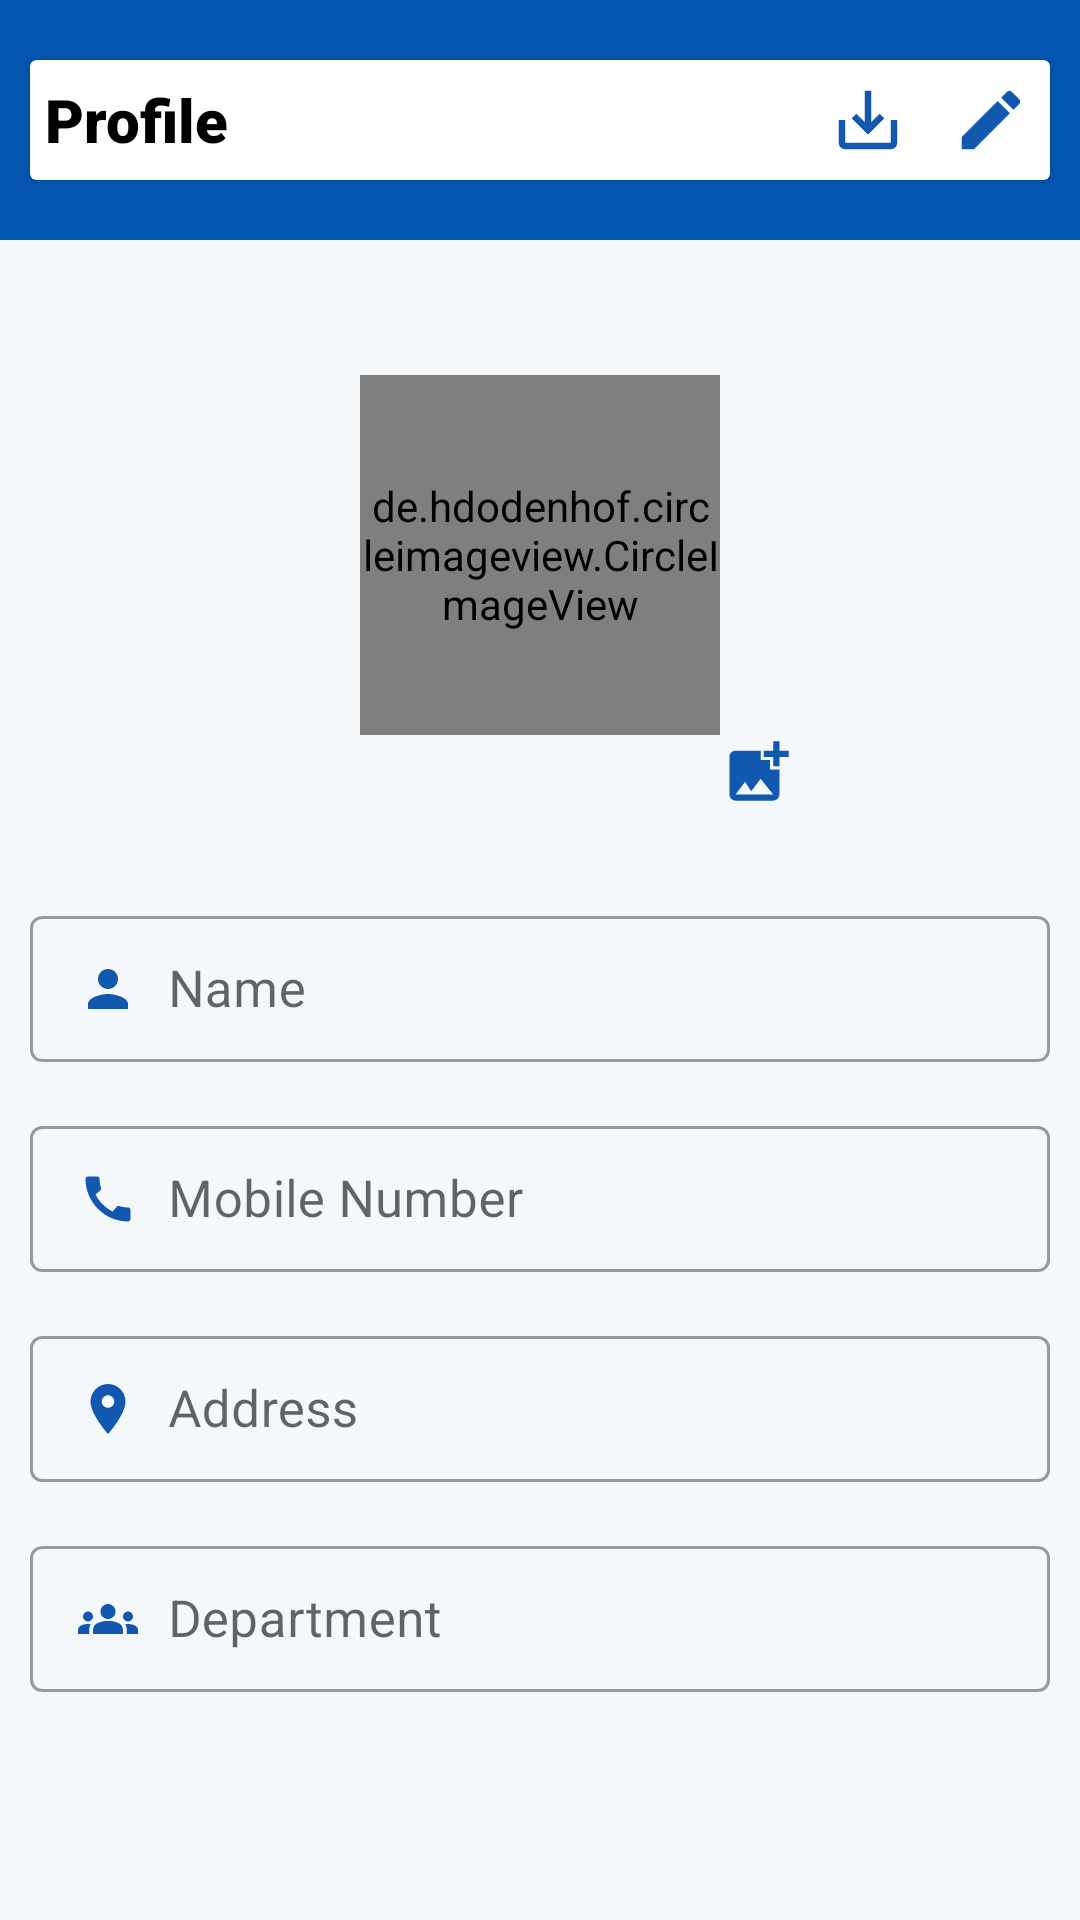

Where to tap for icons on this 1080*1920 app screen, as [x,y]:
edit: [991,120]
save: [868,120]
